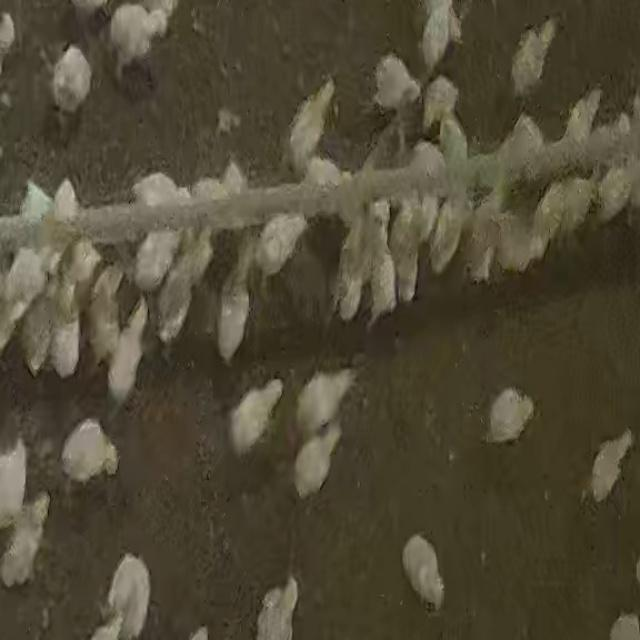chicken: (284, 76, 338, 176), (104, 299, 151, 410), (294, 367, 355, 446), (226, 376, 283, 454), (2, 497, 50, 587), (104, 552, 152, 639), (108, 3, 170, 67), (511, 16, 559, 98), (586, 427, 635, 505), (65, 422, 123, 486), (402, 534, 446, 614), (479, 386, 535, 446), (370, 52, 421, 115), (256, 212, 306, 276), (133, 228, 181, 294), (51, 44, 94, 116), (217, 283, 255, 364), (21, 285, 57, 369), (296, 428, 344, 490), (57, 287, 88, 378), (368, 237, 400, 323), (257, 575, 299, 639), (420, 2, 458, 72), (422, 74, 463, 124), (133, 173, 193, 204), (124, 552, 132, 553)
